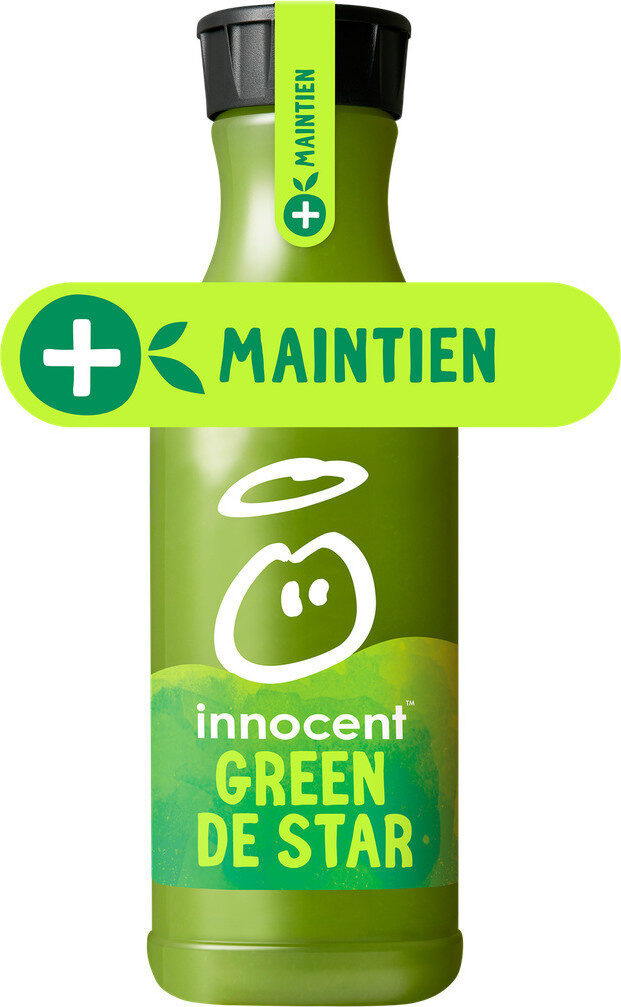Innocent plus green de star 750ml: (31, 50, 590, 957)
